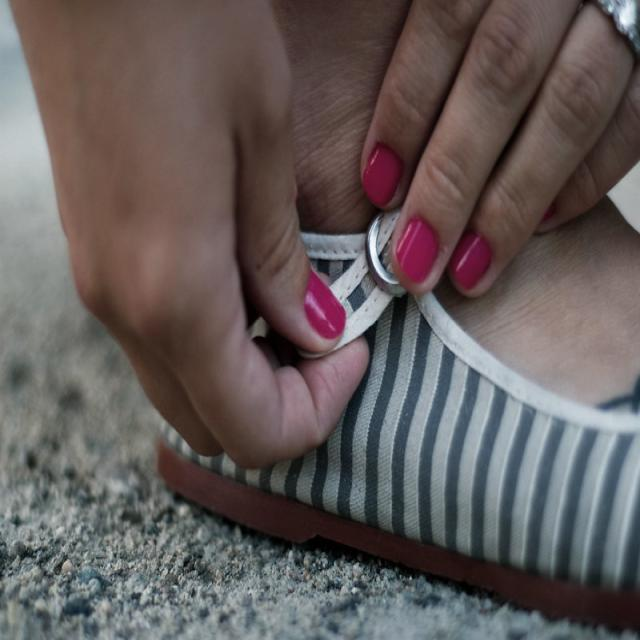Fingernail: (396, 217, 439, 282), (305, 271, 346, 339), (362, 143, 402, 206), (451, 234, 491, 289)
